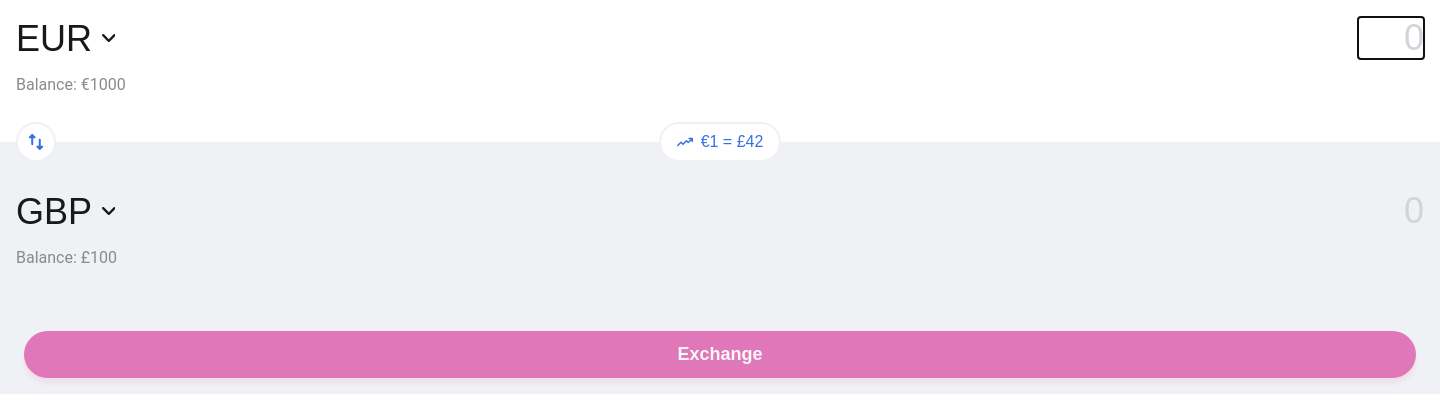
Test: <ExchangeWidget /> › should allow changing the "from" currency
Select "USD" in the dropdown named "Convert from currency": coordinates (66, 38) [16, 18, 115, 58]
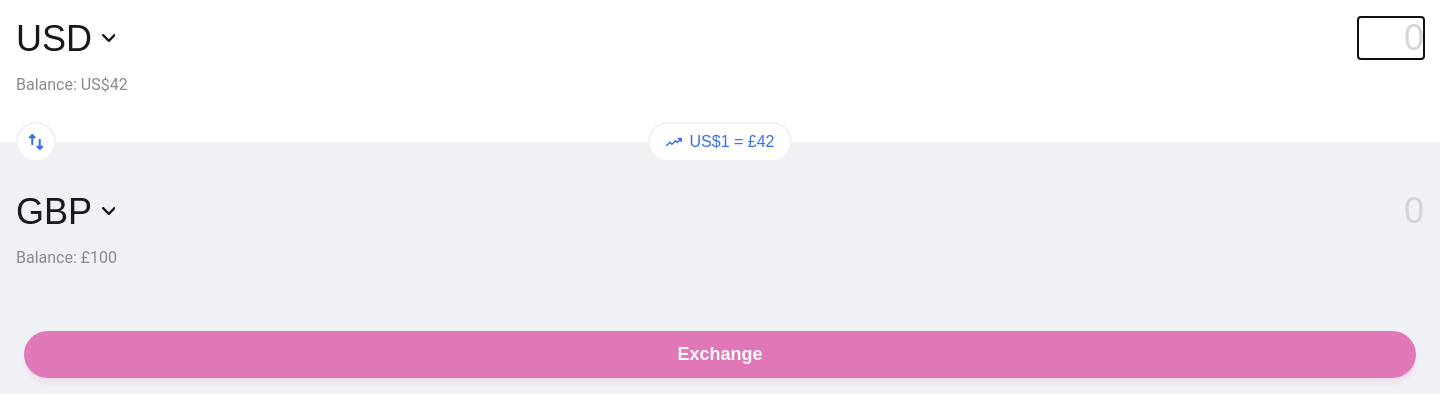
Result: the text "Balance: US$42" is shown at [16, 75, 128, 94]
